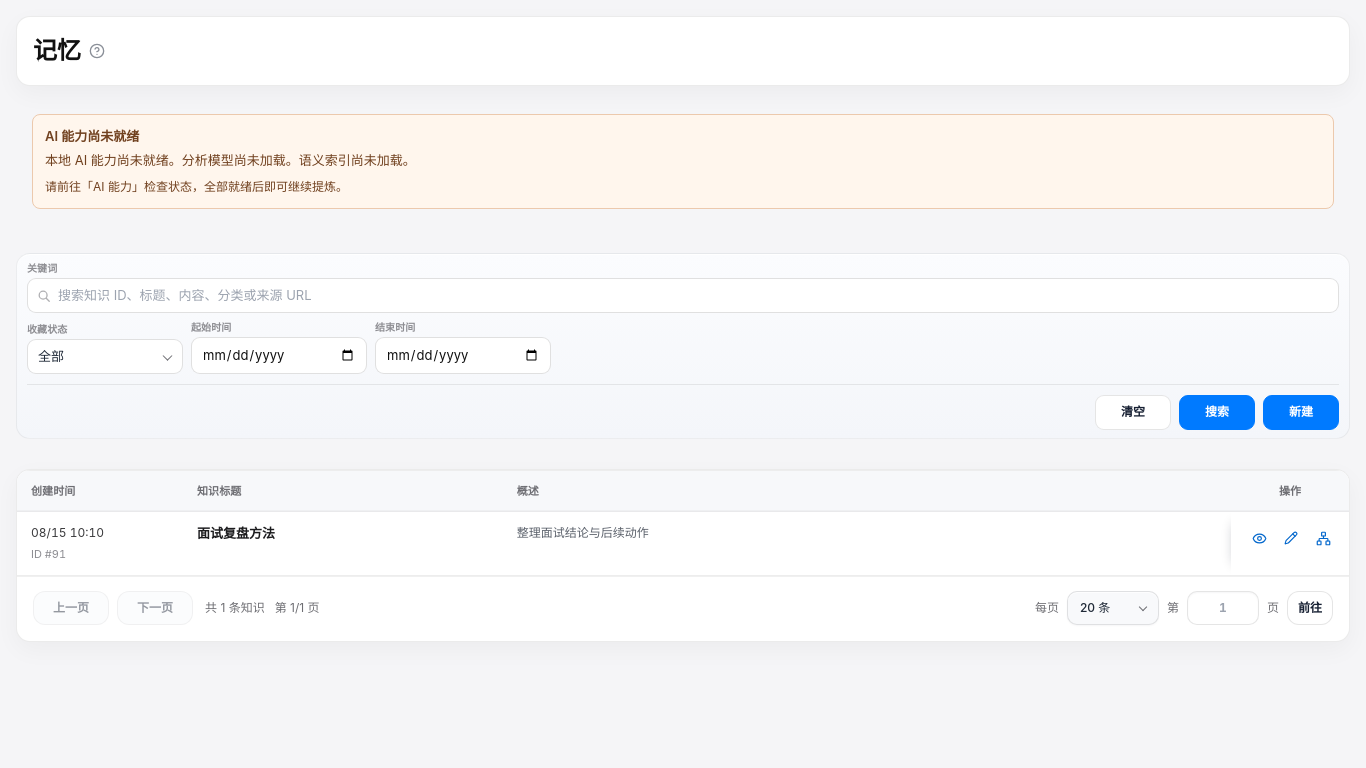
显式搜索交互 › BakePanel 从图谱打开节点时关闭图谱并进入具体内容详情
The width and height of the screenshot is (1366, 768).
Expected: the table named "知识表格" is shown, [17,471,1349,575]
Click the button named "在记忆图谱中查看知识「面试复盘方法」".
click(1323, 538)  # box [1309,524,1337,552]
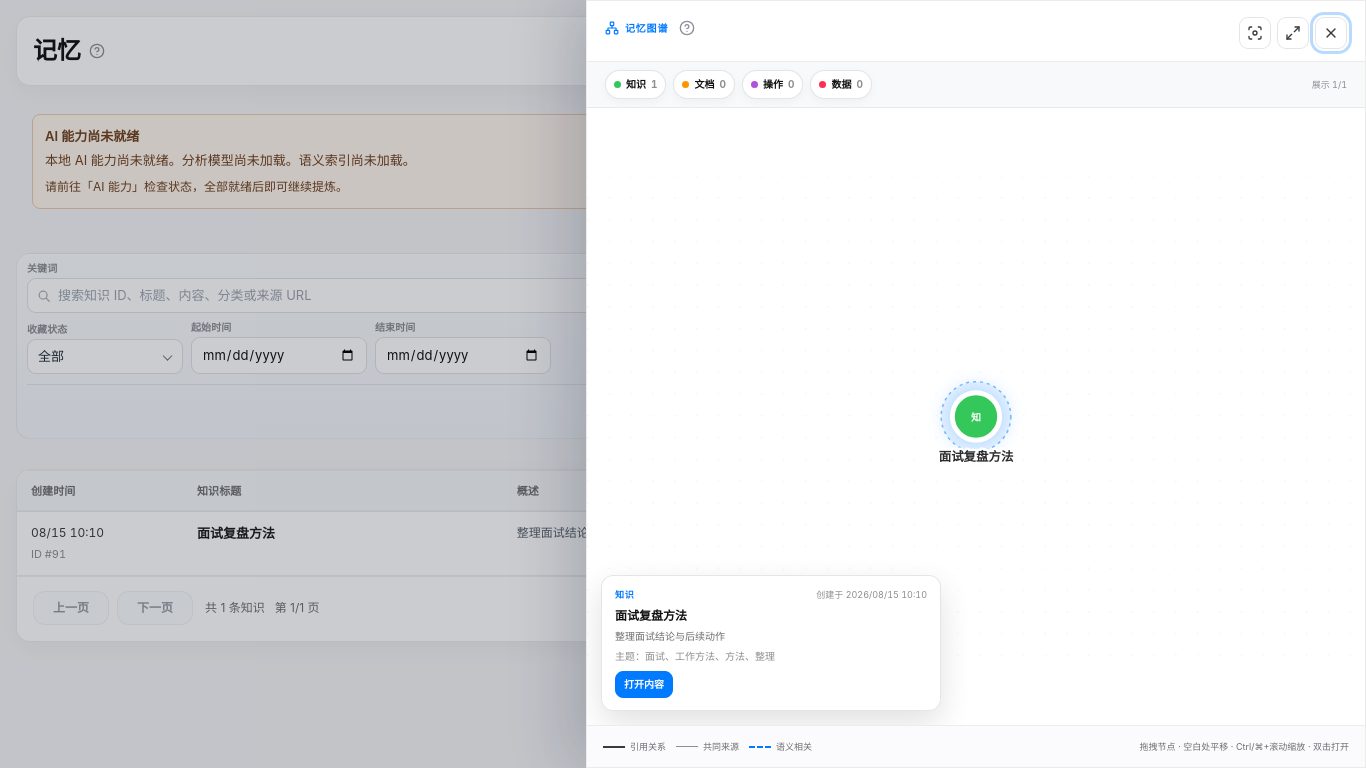
Expected: the dialog "记忆图谱" is shown, [586,0,1365,767]
Click the button "打开内容".
click(644, 684)  # box [615,671,673,698]
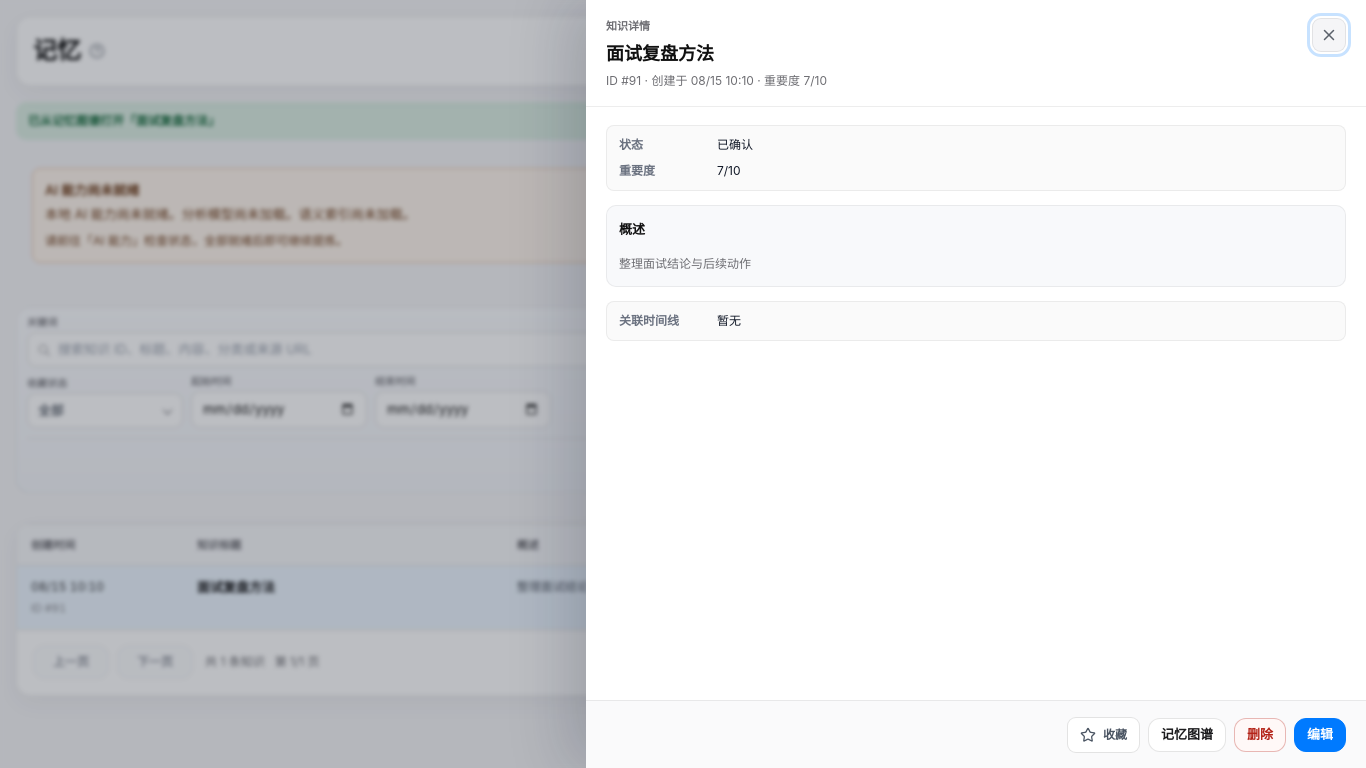
Expected: the dialog "面试复盘方法" is shown, [586,0,1365,767]
